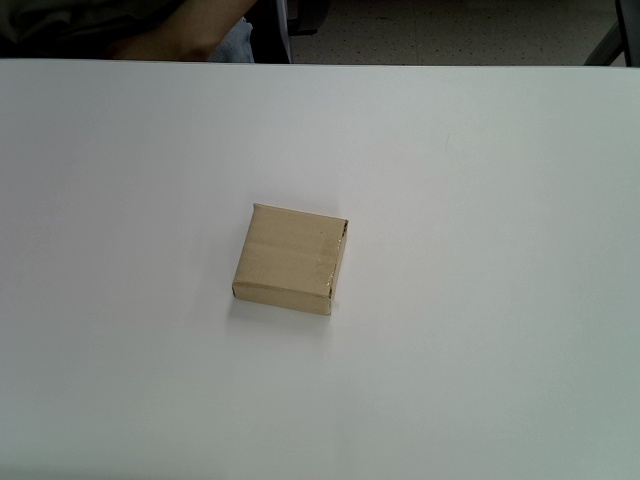normal: (232, 202, 350, 316)
